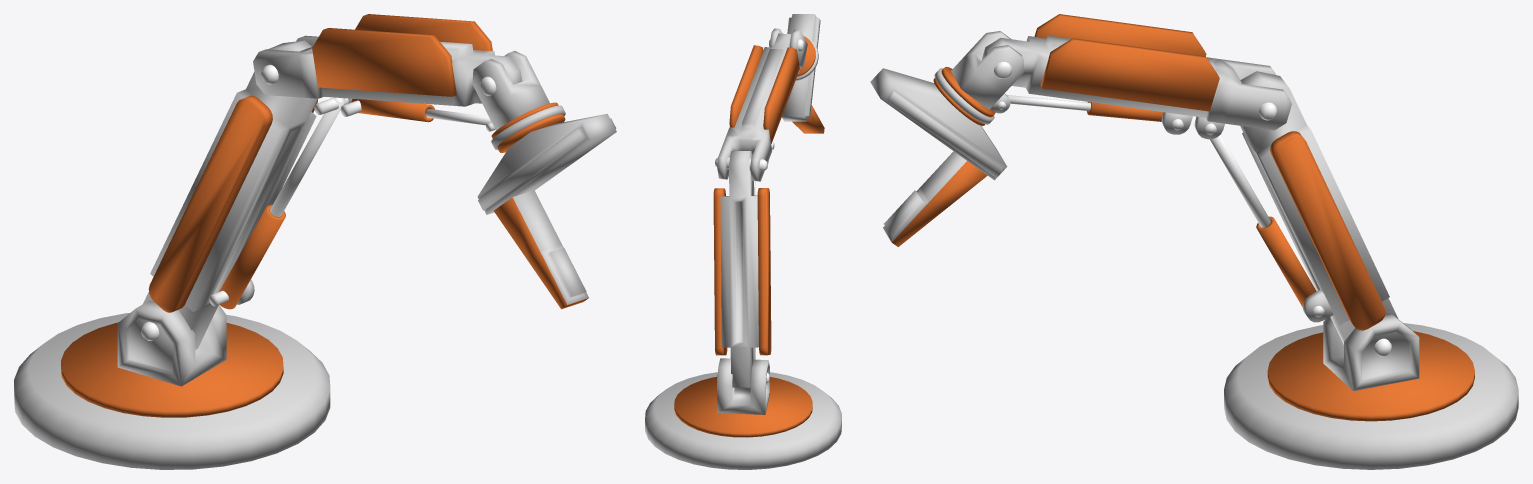
Rendered from 075-robot.glb.
The picture shows the model from 3 angles, left to right: view 1: azimuth 30°, elevation 25°; view 2: azimuth 150°, elevation 25°; view 3: azimuth 270°, elevation 25°; orthographic projection. The views are drawn at different scales.
Visible parts, largest first — view 1: Circle, Circle.003, Plane.010, Cube, Cube.001, Plane, Plane.001, Plane.003, Plane.004, Plane.002, Cylinder, Cylinder.001 (+4 smaller); view 2: Circle, Cube, Circle.003, Plane.001, Cube.001, Plane.010, Plane, Plane.003, Plane.002, Plane.004, Circle.001; view 3: Circle, Plane.010, Circle.003, Cube.001, Cube, Plane.001, Plane.003, Plane, Plane.004, Plane.002, Cylinder, Cylinder.001 (+5 smaller).
Part boxes in pixels (bbox=[...]): Circle: bbox=[14, 313, 330, 469]; Circle.003: bbox=[61, 322, 283, 417]; Plane.010: bbox=[312, 14, 492, 96]; Cube: bbox=[143, 40, 317, 349]; Cube.001: bbox=[148, 95, 317, 312]; Plane: bbox=[117, 300, 226, 386]; Plane.001: bbox=[253, 35, 522, 106]; Plane.003: bbox=[477, 114, 616, 214]; Plane.004: bbox=[494, 190, 588, 309]; Plane.002: bbox=[472, 51, 549, 130]; Cylinder: bbox=[219, 204, 285, 309]; Cylinder.001: bbox=[270, 97, 345, 216]; Circle: bbox=[645, 372, 841, 469]; Cube: bbox=[720, 151, 758, 387]; Circle.003: bbox=[674, 377, 812, 437]; Plane.001: bbox=[717, 33, 791, 181]; Cube.001: bbox=[713, 188, 771, 355]; Plane.010: bbox=[729, 45, 799, 143]; Plane: bbox=[717, 358, 769, 414]; Plane.003: bbox=[781, 14, 820, 121]; Plane.002: bbox=[769, 28, 807, 68]; Plane.004: bbox=[792, 105, 824, 133]; Circle.001: bbox=[797, 36, 815, 76]; Circle: bbox=[1224, 323, 1518, 469]; Plane.010: bbox=[1034, 14, 1219, 111]; Circle.003: bbox=[1267, 331, 1474, 421]; Cube.001: bbox=[1270, 131, 1385, 330]; Cube: bbox=[1240, 71, 1398, 344]; Plane.001: bbox=[982, 35, 1291, 130]; Plane.003: bbox=[870, 68, 1007, 180]; Plane: bbox=[1323, 314, 1419, 391]; Plane.004: bbox=[883, 151, 987, 246]; Plane.002: bbox=[951, 31, 1024, 109]; Cylinder: bbox=[1256, 216, 1316, 306]; Cylinder.001: bbox=[1210, 134, 1270, 227].
Size of what is drawn, in the model's own units: 2.34 by 3.25 by 4.4.
